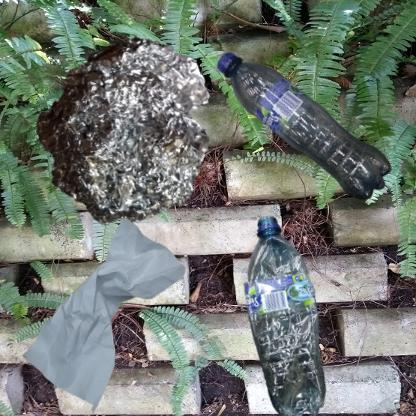aluminio: (10, 10, 255, 269)
botella: (213, 10, 416, 284), (213, 213, 382, 416)
papel: (10, 213, 200, 416)
